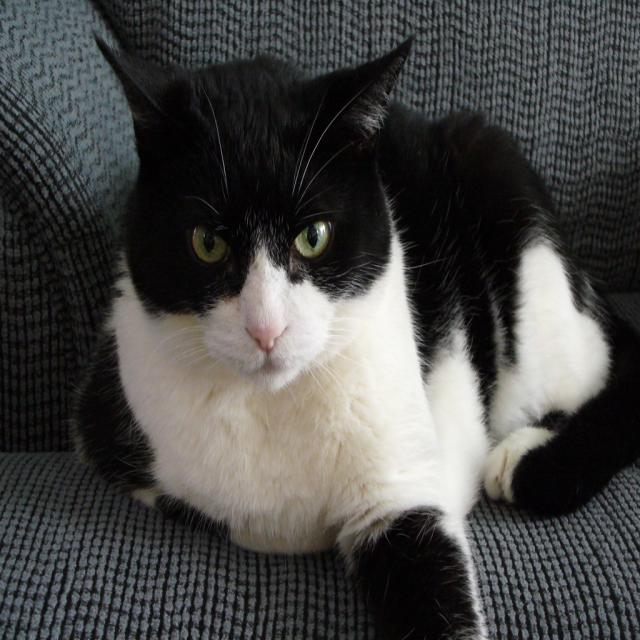Cat: (64, 23, 639, 639)
